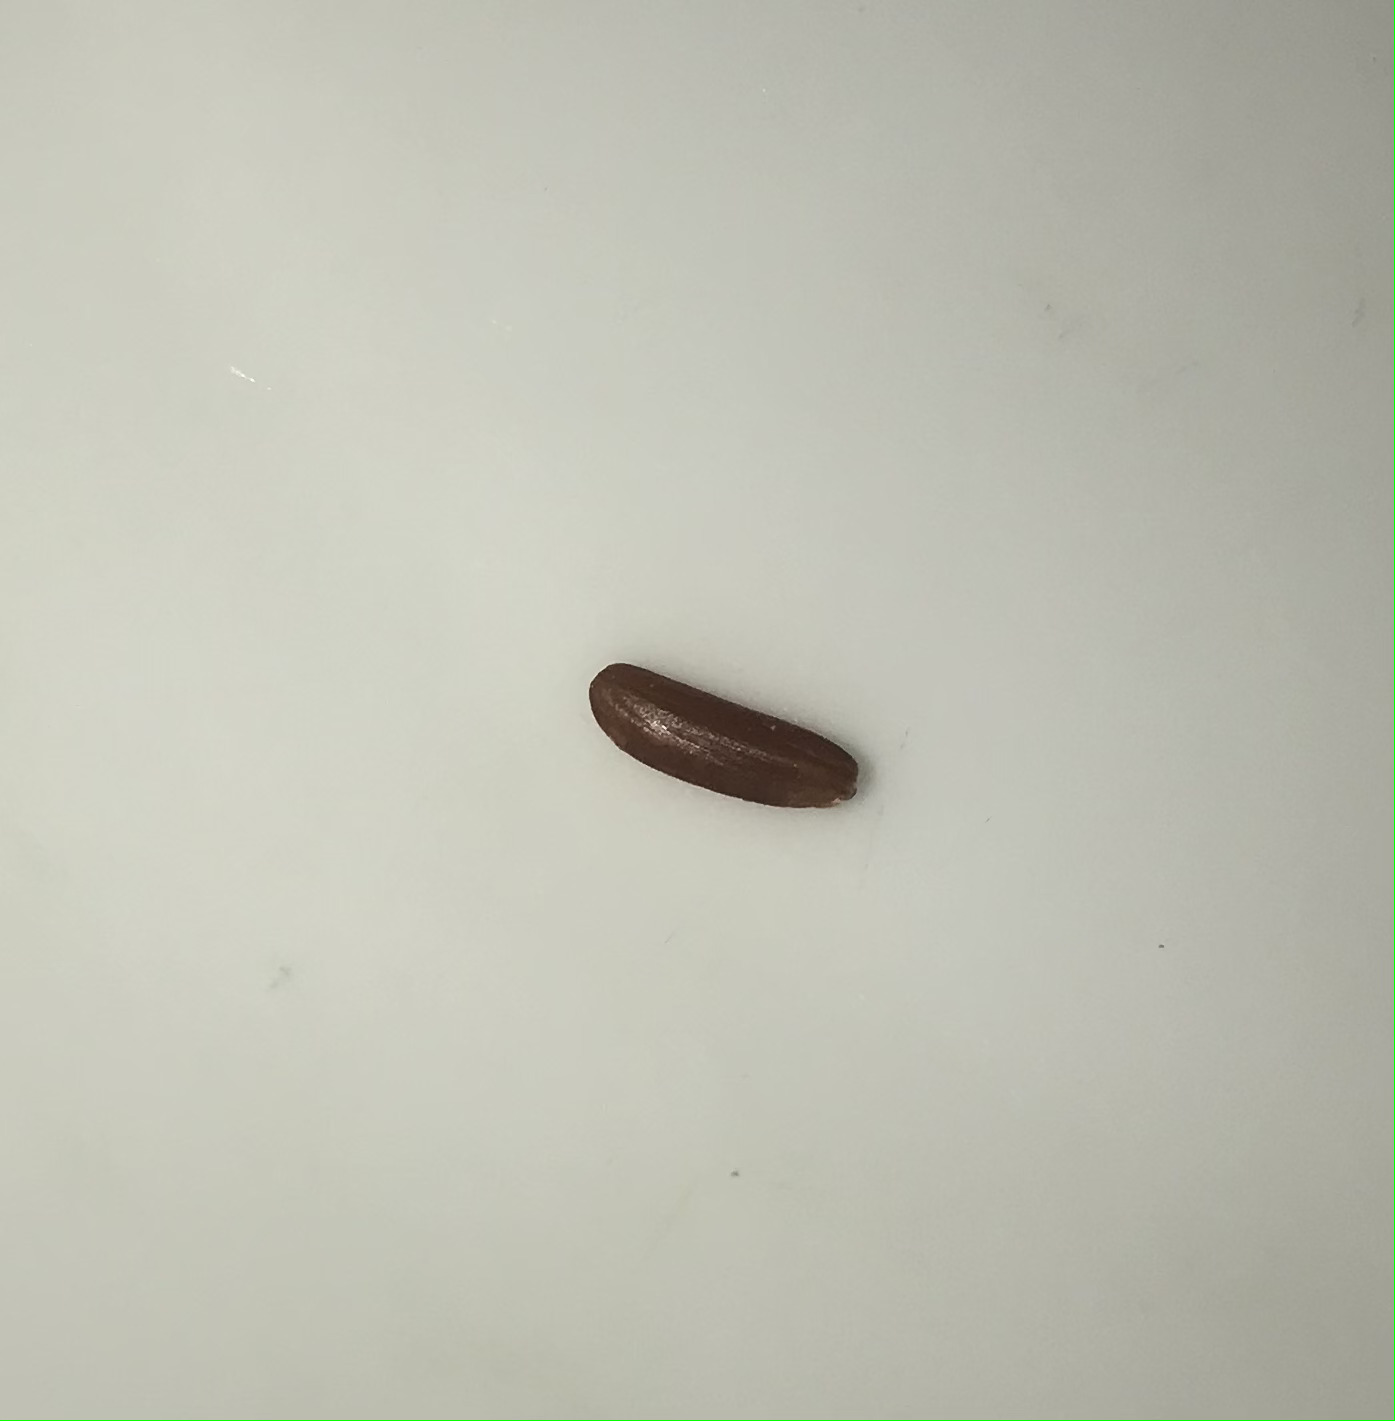Gao Huyet Rong: (576, 650, 873, 826)
